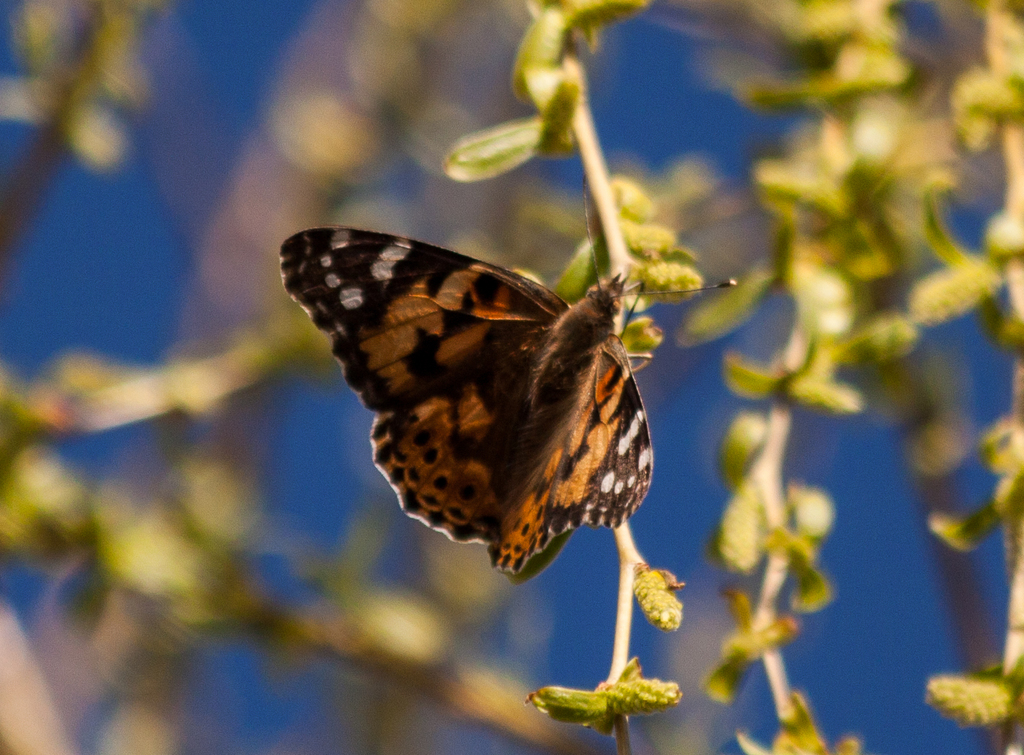Butterfly: (277, 202, 661, 551)
